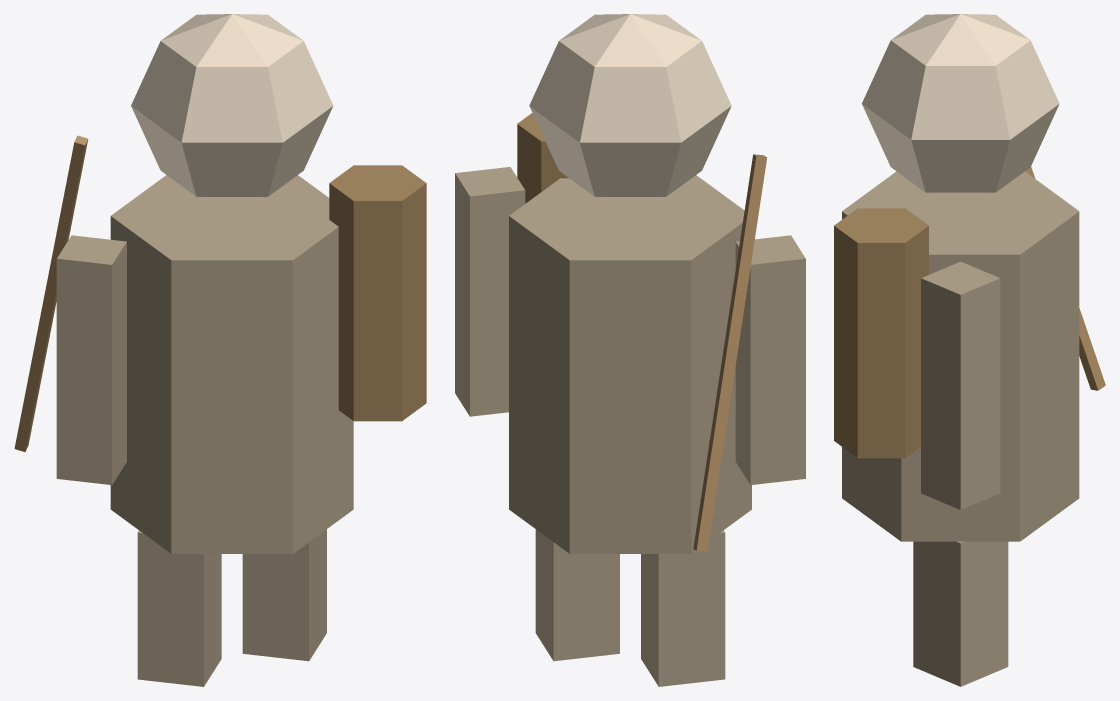
The model's file is archer.glb.
3 renders of one model, left to right at view 1: azimuth 30°, elevation 25°; view 2: azimuth 150°, elevation 25°; view 3: azimuth 270°, elevation 25°, orthographic. The views are drawn at different scales.
Visible parts, largest first — view 1: archer_torso, archer_head, quiver, archer_al, archer_ll, archer_lr, bow; view 2: archer_torso, archer_head, archer_al, archer_ar, archer_ll, archer_lr, bow, quiver; view 3: archer_torso, archer_head, quiver, archer_ar, archer_lr, bow.
Boxes of the visible parts, x1,y1,x2,y2 form: archer_torso: [110, 175, 353, 553]; archer_head: [131, 14, 333, 197]; quiver: [329, 165, 426, 421]; archer_al: [56, 235, 126, 484]; archer_ll: [137, 530, 221, 686]; archer_lr: [242, 529, 326, 661]; bow: [14, 135, 88, 451]; archer_torso: [509, 175, 751, 553]; archer_head: [529, 14, 731, 197]; archer_al: [735, 235, 805, 484]; archer_ar: [455, 167, 525, 416]; archer_ll: [641, 530, 725, 686]; archer_lr: [535, 529, 619, 661]; bow: [693, 154, 766, 551]; quiver: [517, 113, 568, 203]; archer_torso: [842, 171, 1079, 541]; archer_head: [862, 14, 1059, 193]; quiver: [834, 208, 928, 458]; archer_ar: [921, 261, 1000, 509]; archer_lr: [913, 541, 1008, 686]; bow: [1025, 166, 1105, 390].
Bounding box in the file's own units: 0.1 × 0.175 × 0.0687.
